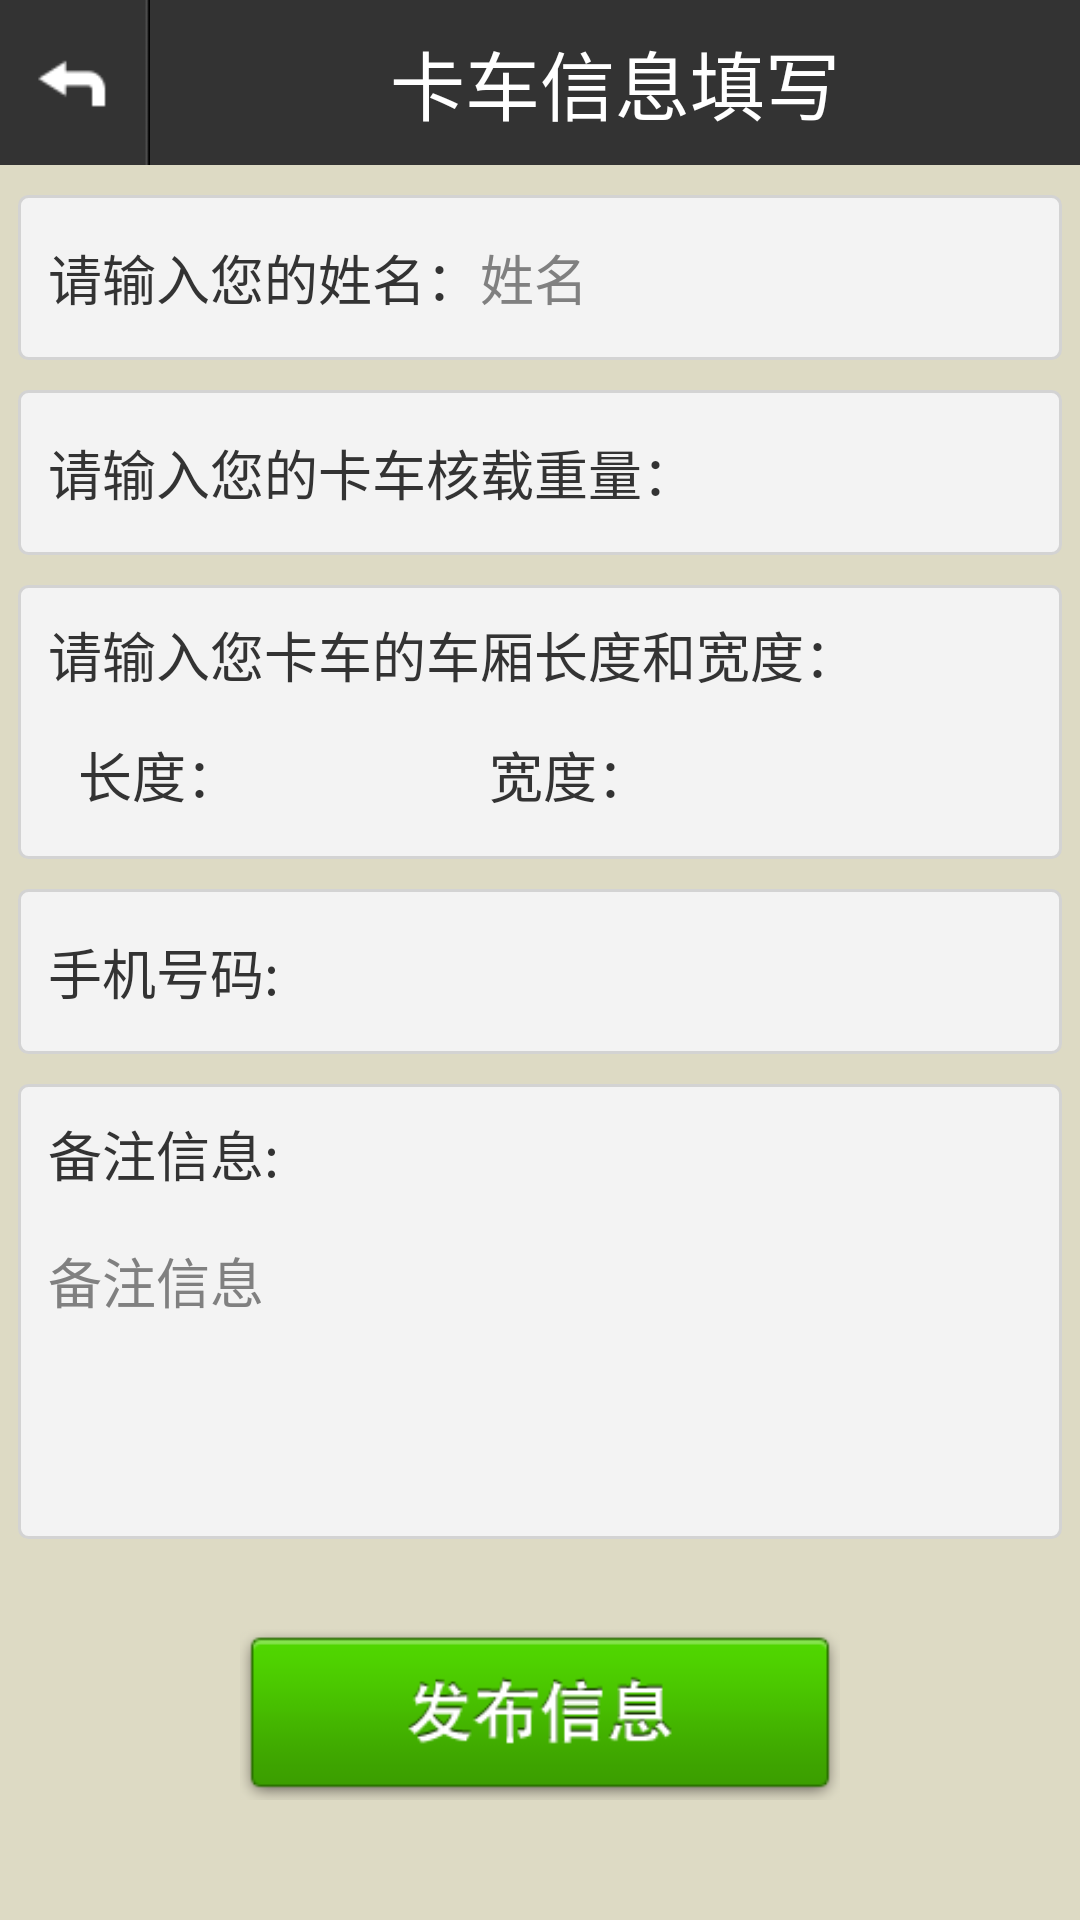

Icons on this 1080×1920 Android screen, each with the point to tap as point (x, y):
back: point (75, 82)
